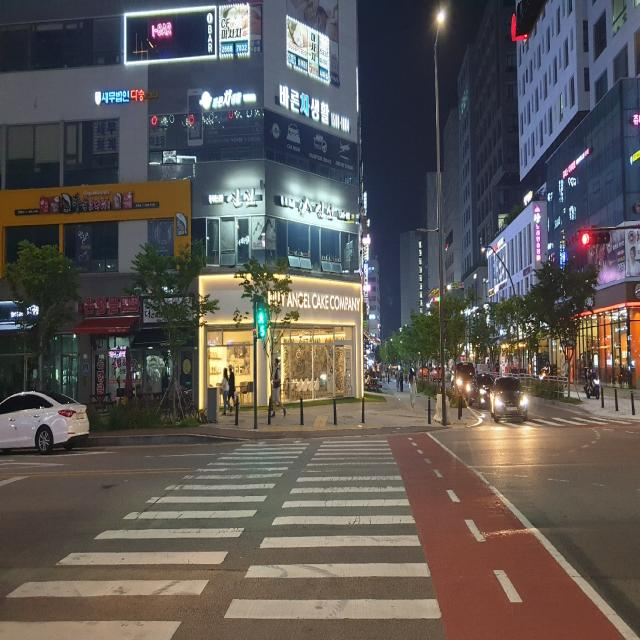초록불: (254, 297, 268, 339)
횡단보도: (0, 434, 444, 639)
